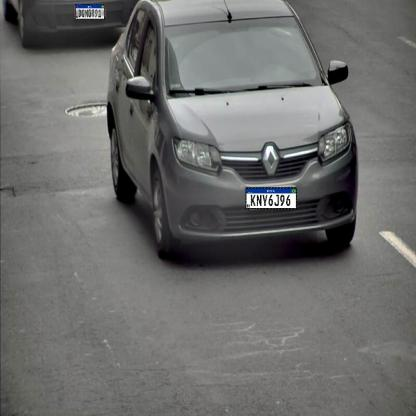PlacaM: (245, 188, 297, 210), (76, 4, 104, 20)
